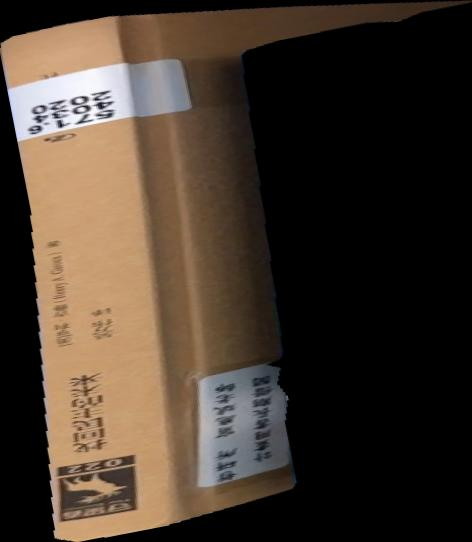reverse: (1, 1, 472, 542)
